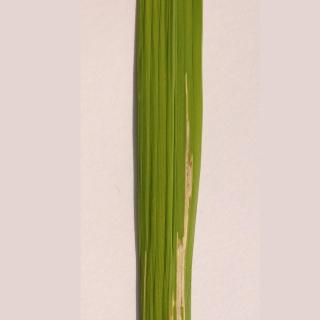Hawar-Daun: (172, 74, 200, 320)
